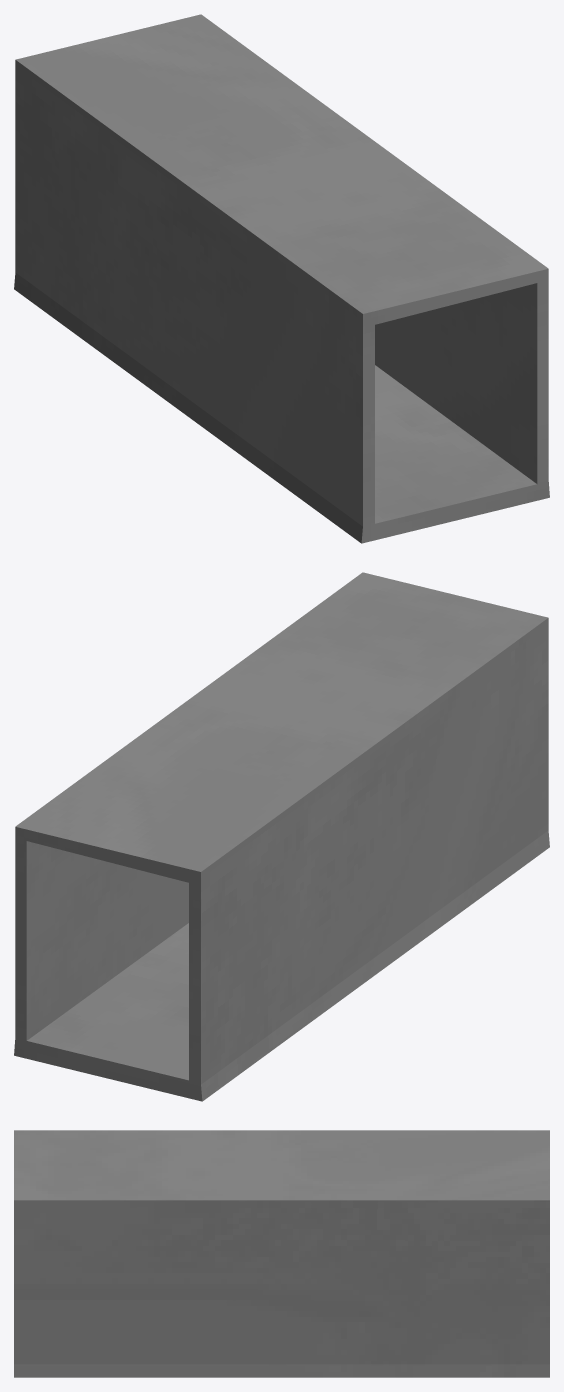
Rendered from liftproxod.glb.
The picture shows the model from 3 angles, top to bottom: view 1: azimuth 30°, elevation 25°; view 2: azimuth 150°, elevation 25°; view 3: azimuth 270°, elevation 25°; orthographic projection. The views are drawn at different scales.
Visible parts, largest first — view 1: Cube.006; view 2: Cube.006; view 3: Cube.006.
Boxes of the visible parts, x1,y1,x2,y2 form: Cube.006: (14,14,549,543); Cube.006: (14,572,549,1101); Cube.006: (14,1130,549,1377).
Size of the model in its own units: 5.7 by 6.63 by 18.21.
Materials: 1 (1 with a texture image).
